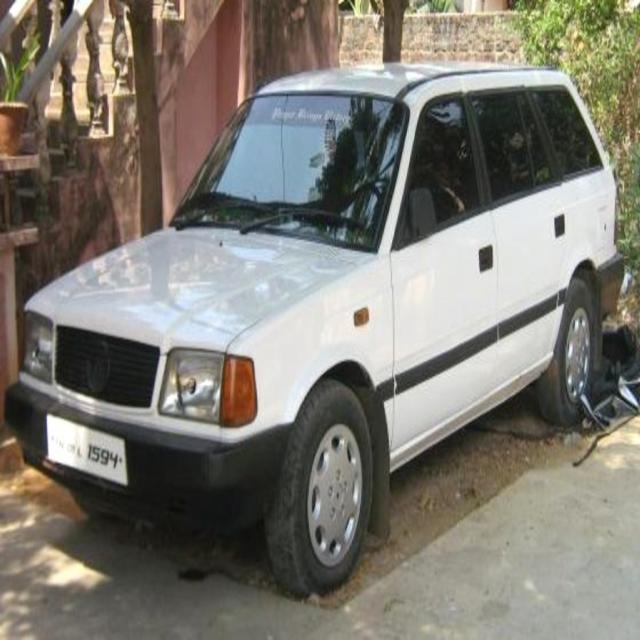car: (3, 62, 625, 604)
